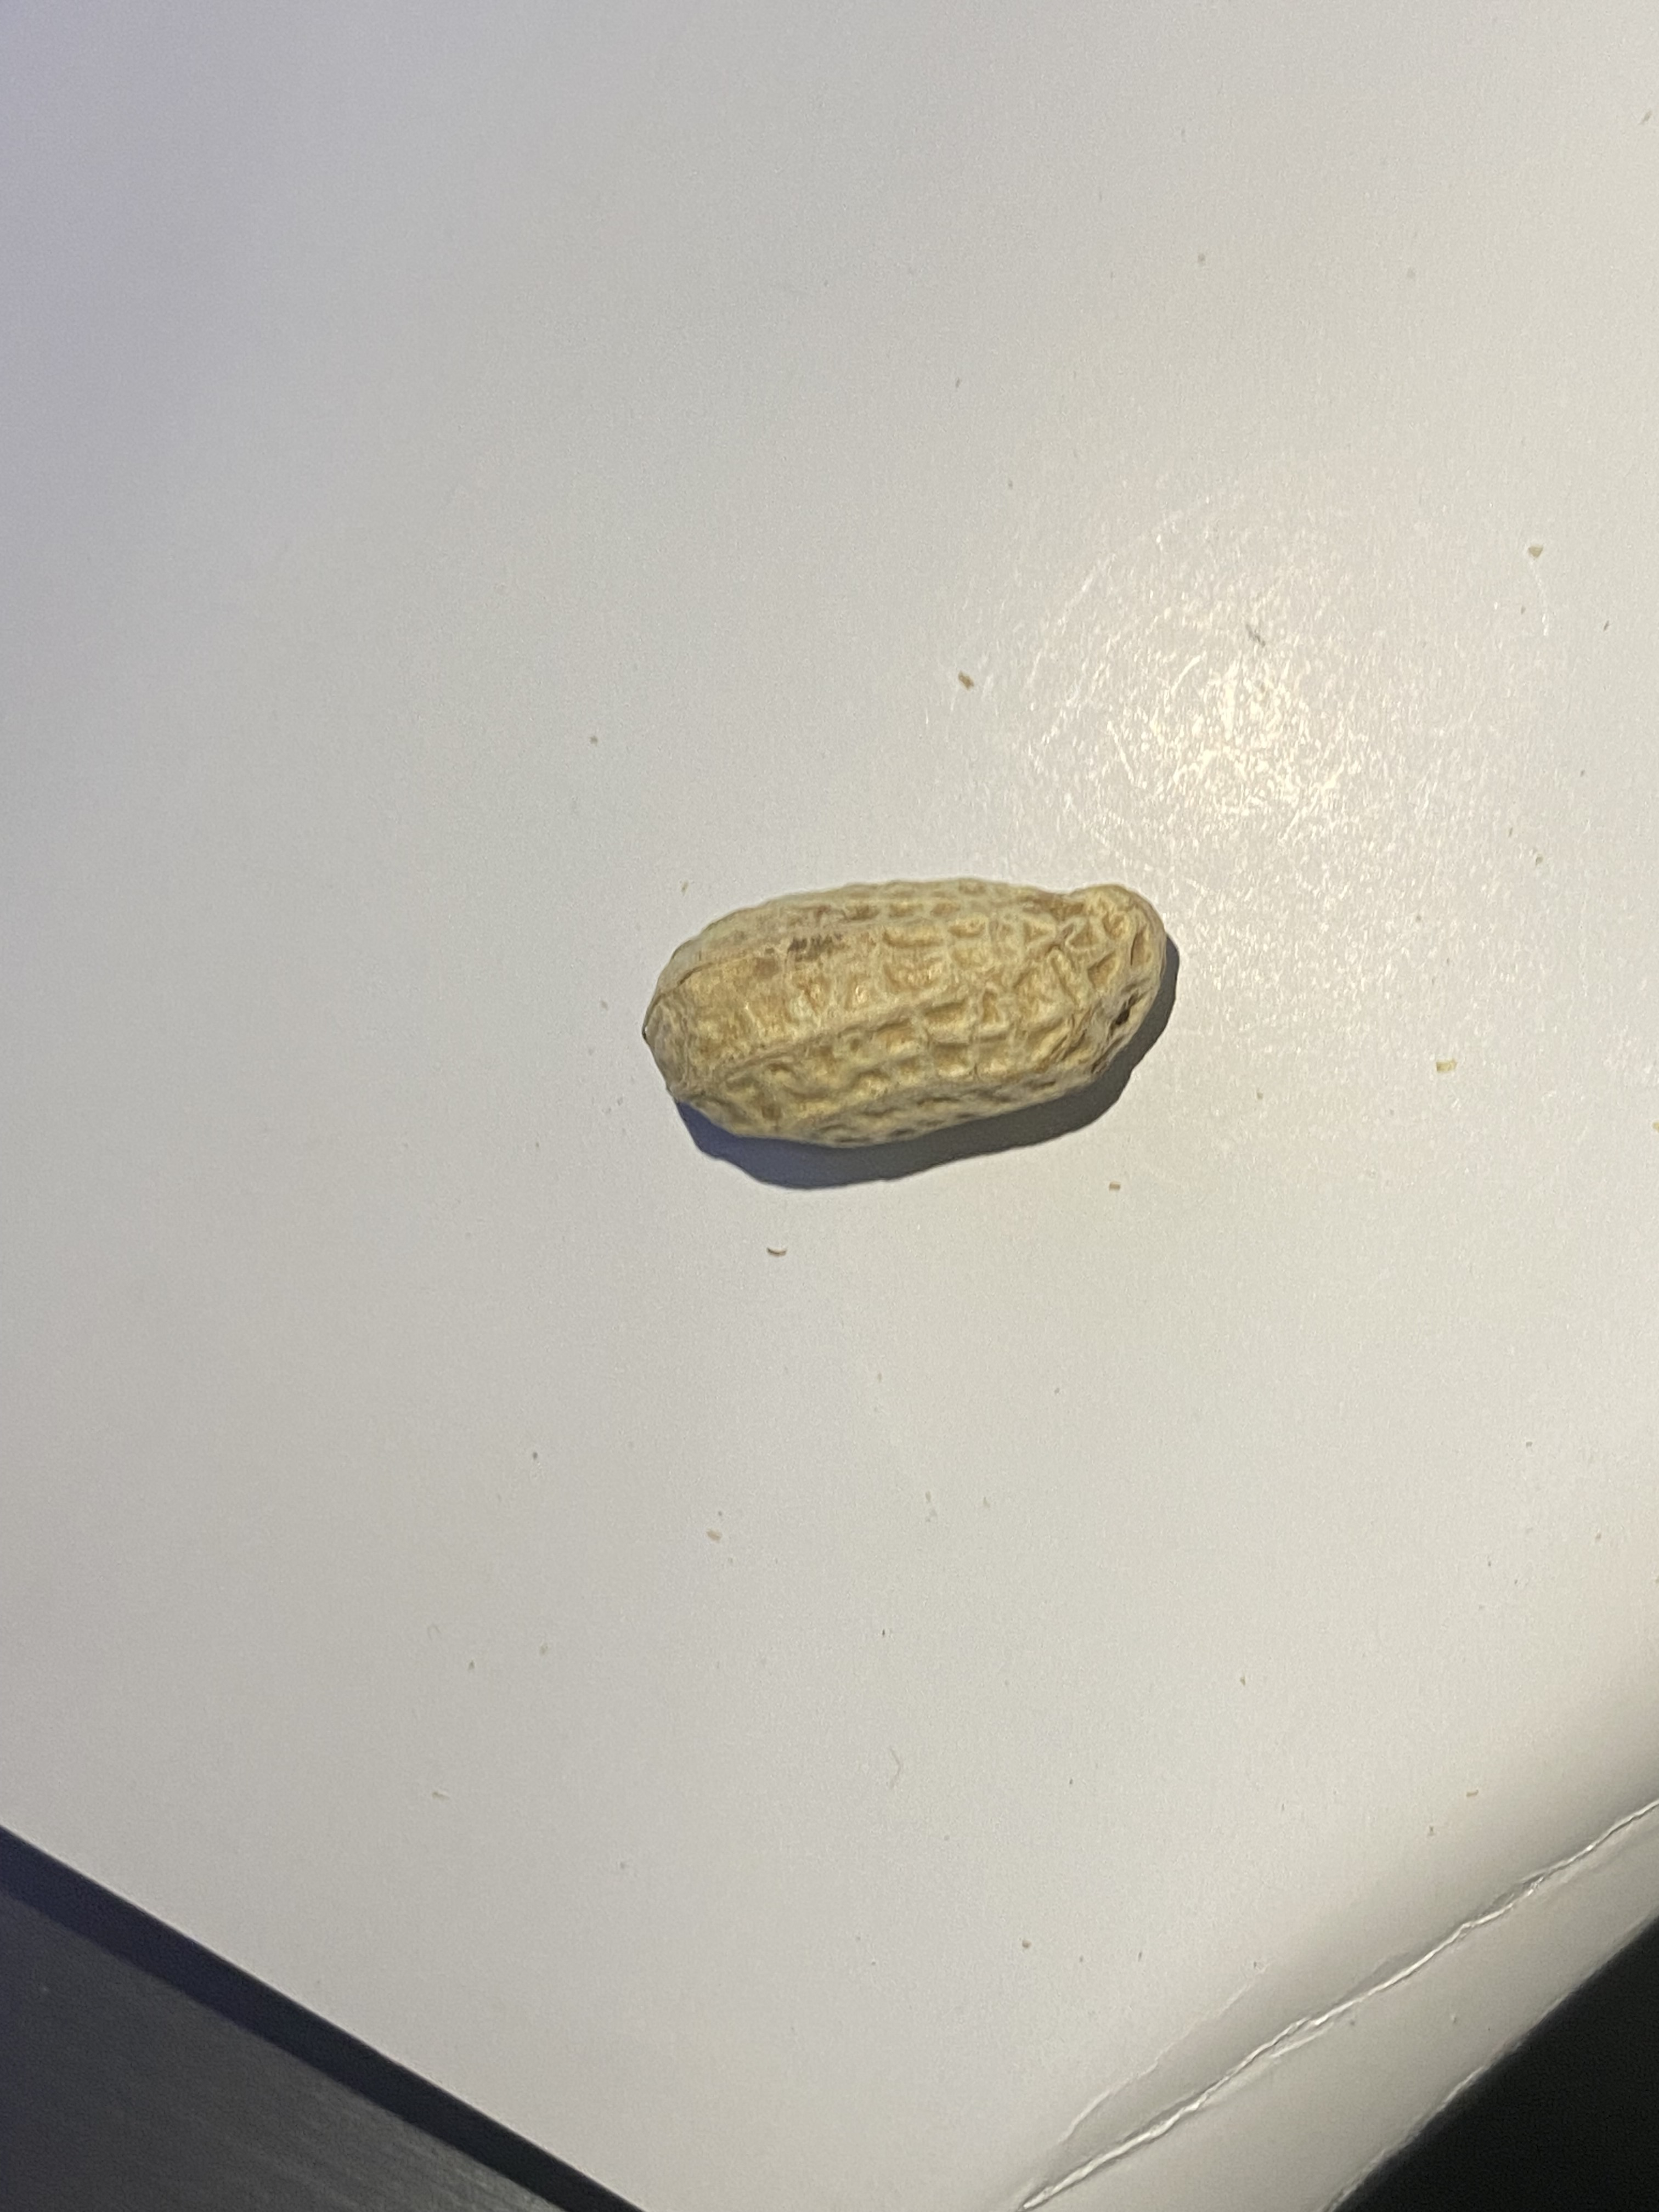kacang1: (612, 862, 1225, 1167)
